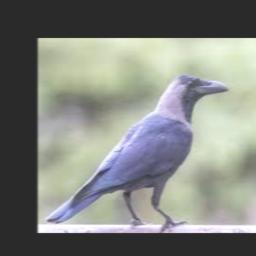Crow: (45, 74, 227, 231)
